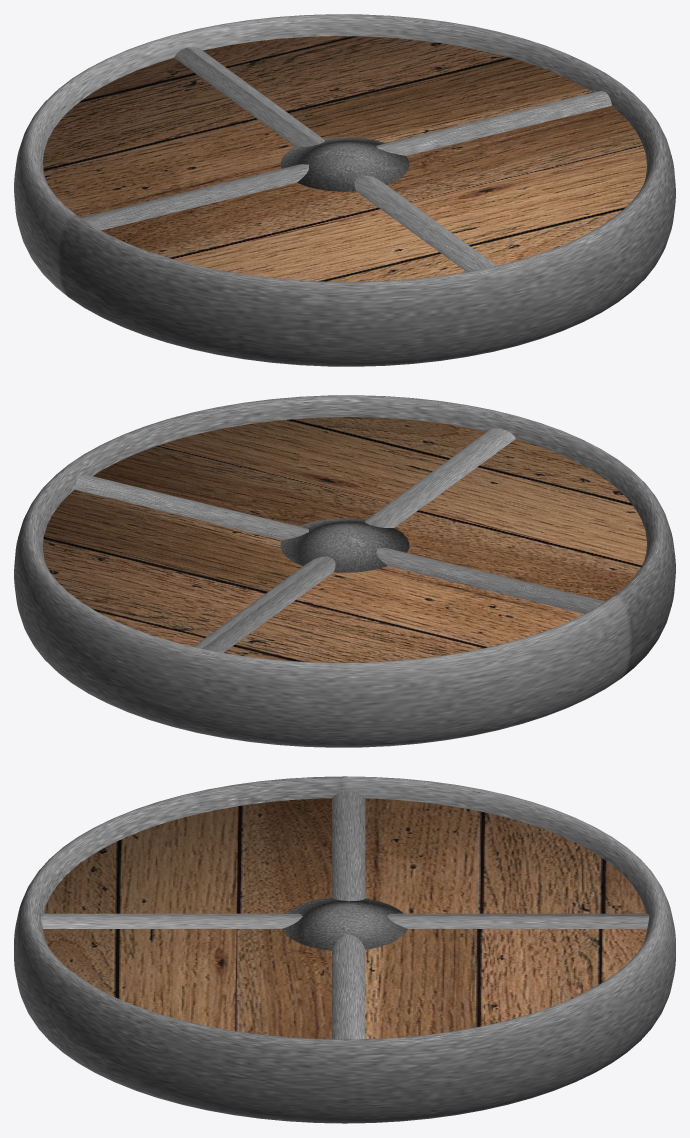
File: Shield.fbx
3 renders of one model, top to bottom at view 1: azimuth 30°, elevation 25°; view 2: azimuth 150°, elevation 25°; view 3: azimuth 270°, elevation 25°, orthographic.
Visible parts, largest first — view 1: Cylinder, Torus, Cylinder.002, Cylinder.001, Cone; view 2: Cylinder, Torus, Cylinder.002, Cylinder.001, Cone; view 3: Cylinder, Torus, Cylinder.001, Cylinder.002, Cone.
Boxes of the visible parts, x1,y1,x2,y2 form: Cylinder: (43,36,646,281); Torus: (14,14,675,366); Cylinder.002: (80,91,611,230); Cylinder.001: (174,47,496,271); Cone: (280,137,409,191); Cylinder: (43,417,646,662); Torus: (14,395,675,747); Cylinder.002: (74,474,605,613); Cylinder.001: (193,428,515,652); Cone: (280,518,409,572); Cylinder: (43,798,646,1039); Torus: (14,776,675,1123); Cylinder.001: (41,913,649,928); Cylinder.002: (332,790,365,1039); Cone: (282,897,407,950).
Size of the model in its own units: 204 by 28.98 by 206.
